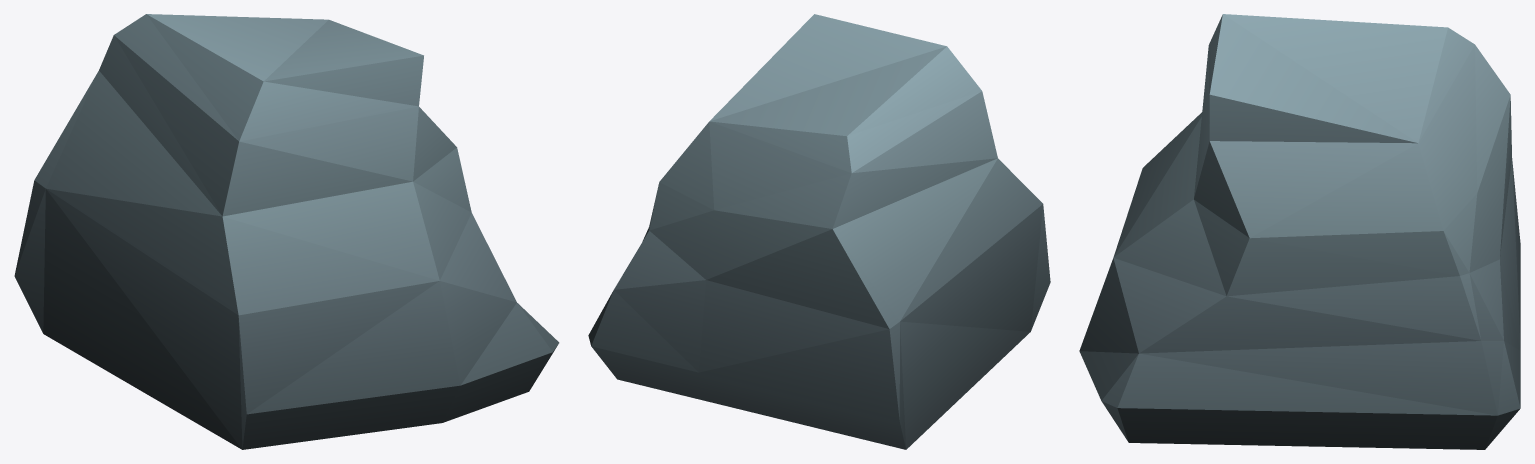
Rendered from stone small gray blue 3.fbx.
3 views of the same model, side by side, from view 1: azimuth 30°, elevation 25°; view 2: azimuth 150°, elevation 25°; view 3: azimuth 270°, elevation 25° (orthographic). The views are drawn at different scales.
Visible parts, largest first — view 1: stone small gray blue 3; view 2: stone small gray blue 3; view 3: stone small gray blue 3.
Part boxes in pixels (x1,y1,x2,y2): stone small gray blue 3: [14, 14, 559, 449]; stone small gray blue 3: [588, 14, 1050, 449]; stone small gray blue 3: [1079, 14, 1520, 449].
Size of the model in its own units: 73.84 by 65.03 by 80.26.
